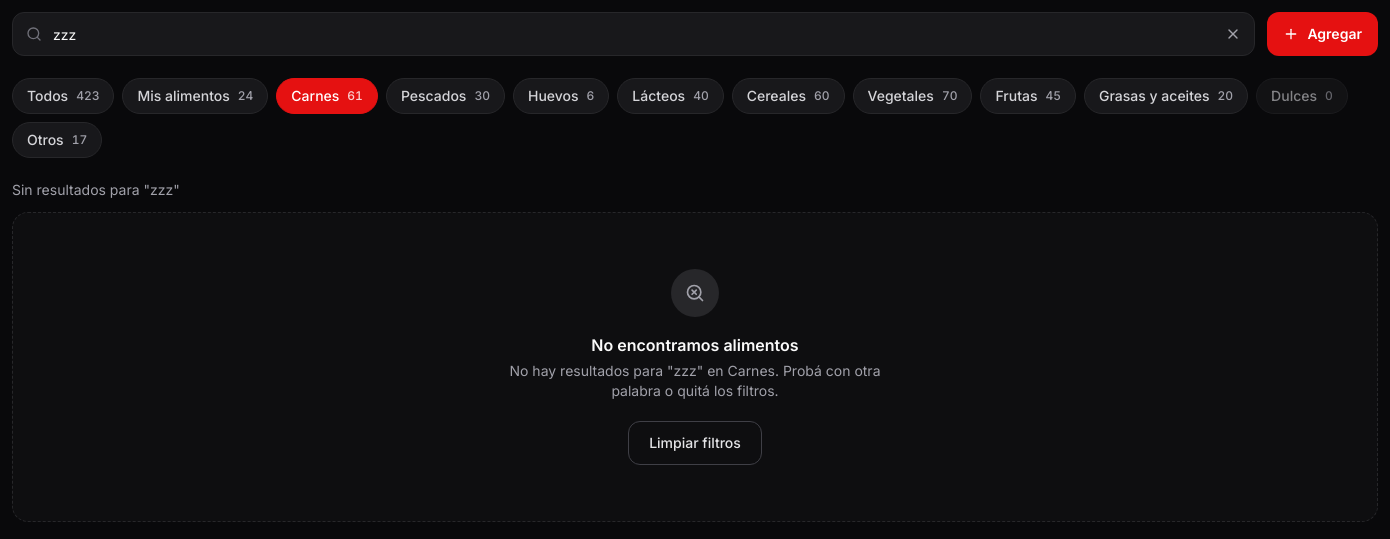
Scenario: empty state › clears the search, the chip and the page, keeping the tab
Click the button "Limpiar filtros". click: (695, 443)
box: [628,421,762,465]
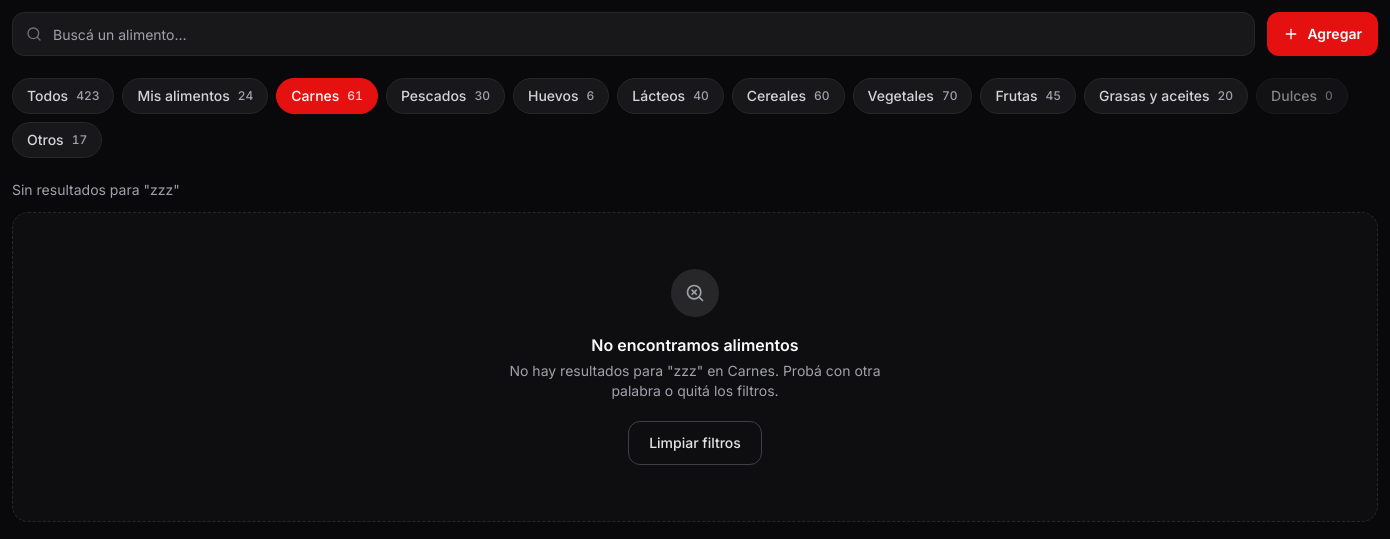
Check: the search field named "Buscar alimento" is empty, box [12,12,1255,56]
